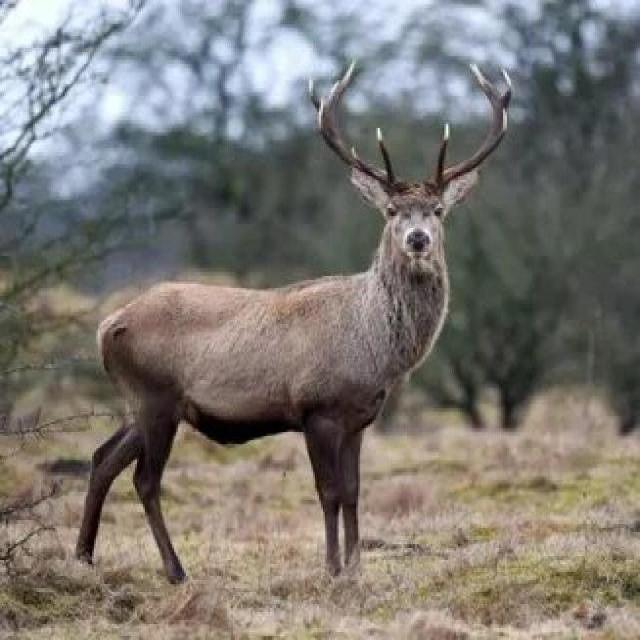deer: (74, 114, 578, 585)
